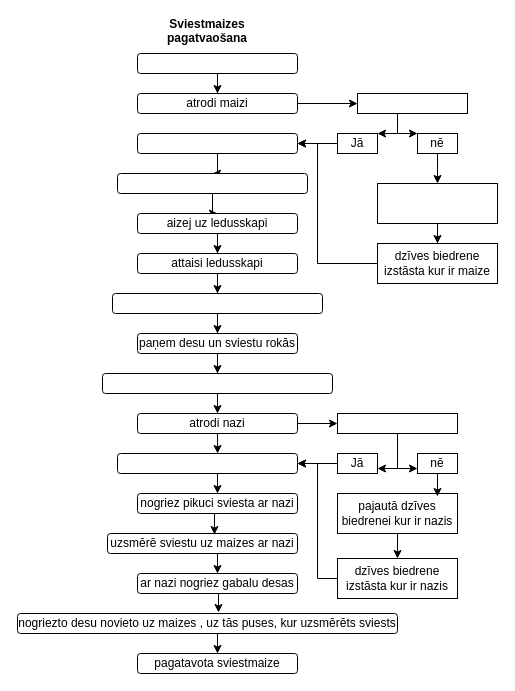
This 515x691 diagram has some shape labels left out. The centre of each missing label's shape, as x and y in pixels:
"Ieej virtuvē" goes at (x=217, y=63).
"no ledusskapja izņem desu un sviestu" goes at (x=217, y=303).
"noliec desu sviestu uz galda blakus maizei" goes at (x=217, y=383).
"noliec maizes iepakojumu uz galda" goes at (x=212, y=183).
"pajautā dzīves biedrenei kur ir maize" goes at (x=437, y=203).
"paņem maizes iepakojumu" goes at (x=217, y=143).
"paņem nazi rokā aiz neasā gala" goes at (x=207, y=463).
"Vai tu atradi maizi?" goes at (x=412, y=103).
"Vai tu atradi nazi?" goes at (x=397, y=423).
